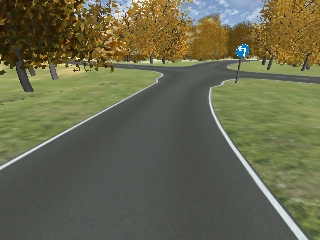left: (235, 43, 249, 57)
